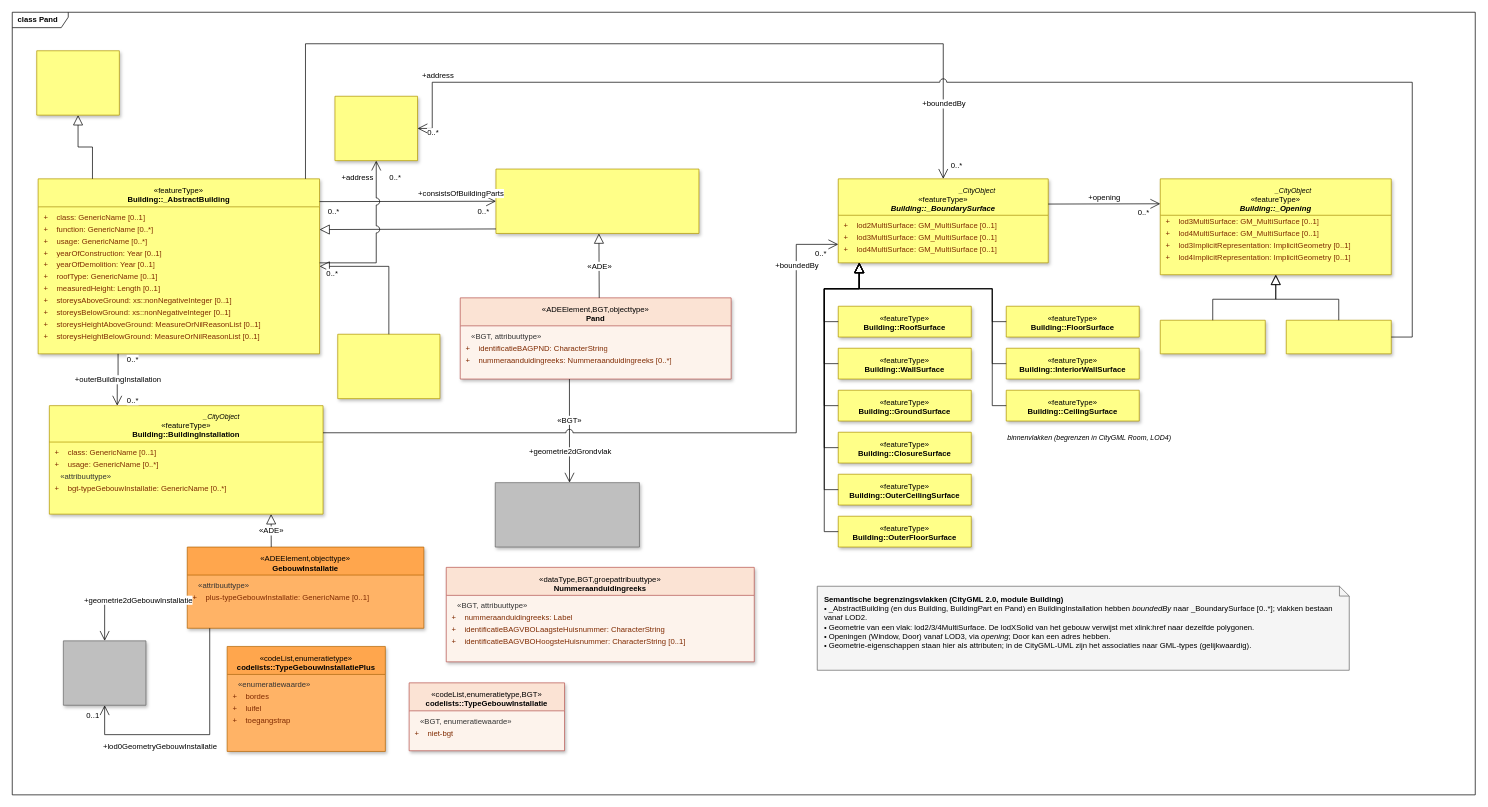
Image size: 1488x807. Some labels were removed from this diagram. Here are the shapes that lost their labels. From the top down, the centre of each, then its label:
pixel 78 83: _CityObject «featureType» CityGML Core::_Site
pixel 376 129: _Feature «featureType» CityGML Core:: Address
pixel 597 202: «featureType» Building::BuildingPart
pixel 1213 338: «featureType» Building::Window
pixel 1339 338: «featureType» Building::Door
pixel 389 367: «featureType» Building::Building
pixel 568 515: «type» GML::GM_MultiSurface
pixel 105 673: «type» GML::GM_Surface
